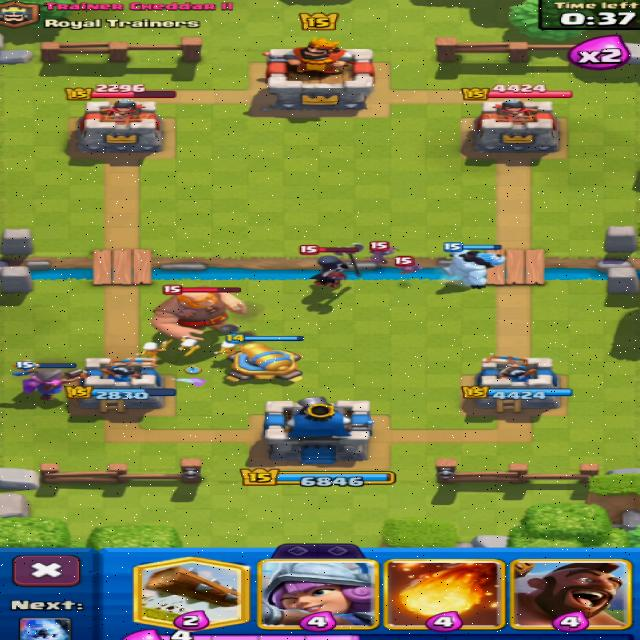Enemy-Bat: (370, 241, 398, 264), (395, 257, 422, 274)
Enemy-Giant: (151, 292, 246, 340)
Enemy-KingTower: (265, 36, 375, 111)
Enemy-NightWitch: (300, 244, 363, 288)
Enemy-PrincessTower: (470, 100, 557, 159), (78, 99, 161, 152)
Player-Cannon: (226, 342, 301, 381)
Player-IceGolem: (445, 250, 503, 288)
Player-KingTower-Activated: (264, 397, 374, 464)
Player-Musketeer-Evo: (23, 369, 80, 401)
Player-PrincessTower: (463, 354, 572, 412), (78, 358, 175, 413)
Player-Skeleton: (138, 340, 171, 358), (179, 336, 198, 356), (214, 341, 238, 354)
